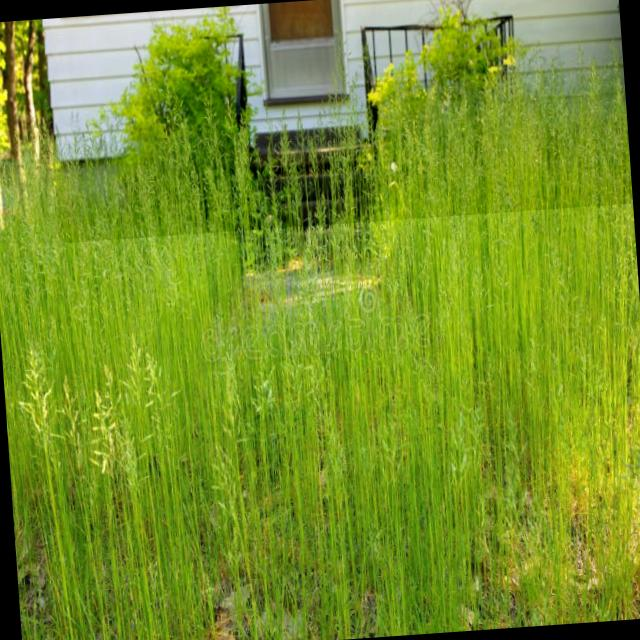House: (43, 0, 632, 243)
